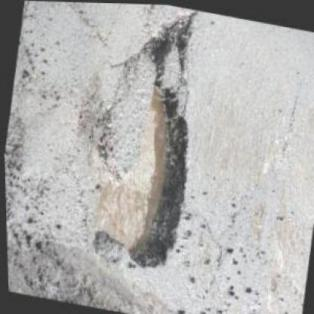Hueco: (70, 67, 204, 276), (133, 3, 199, 79)
